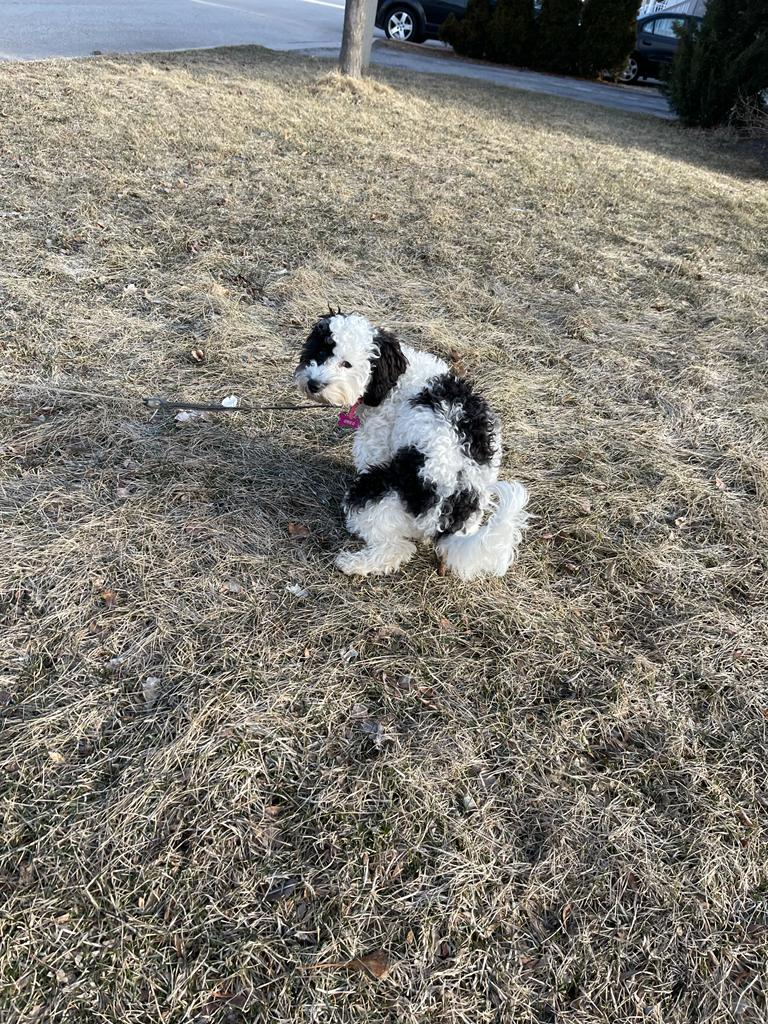dog_pooping: (286, 304, 544, 589)
